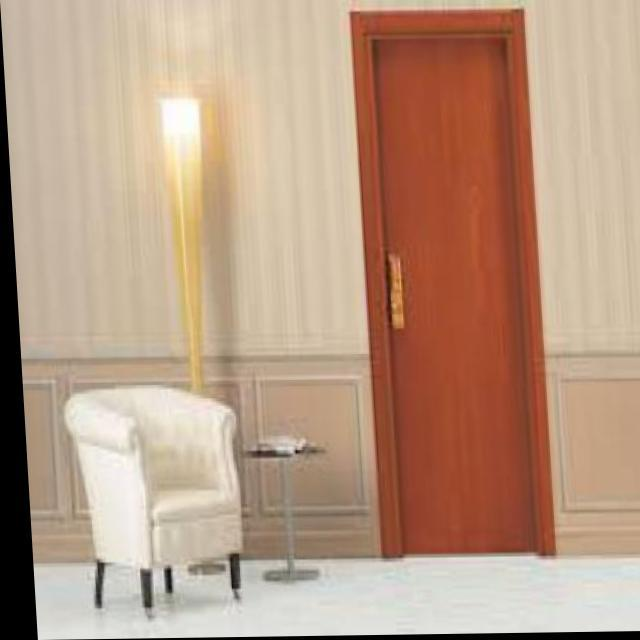door_handle: (378, 246, 411, 343)
